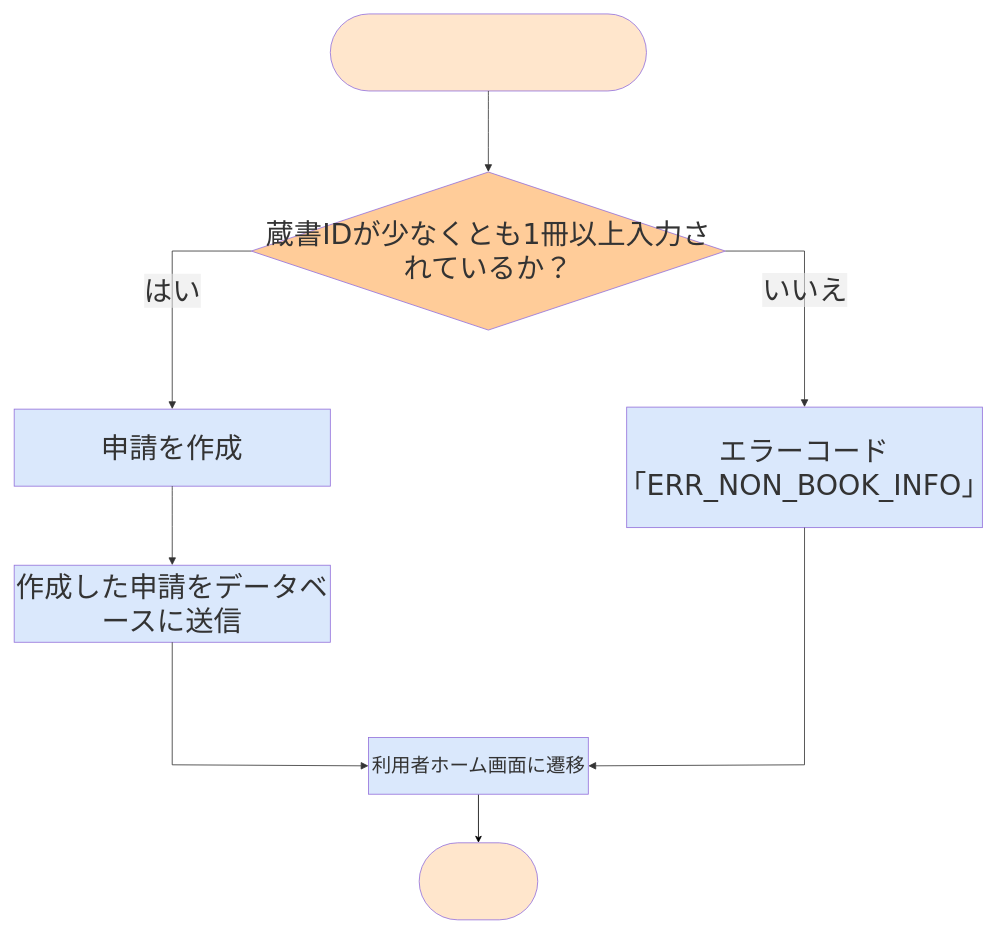
Some shapes in this 1004 by 935 pixel diagram are drawn without their labels. Here are the shapes that lost their labels. From the top down, the centre of each, then its label:
[488,52]: 申請ボタン押下時
[478,881]: 終了
